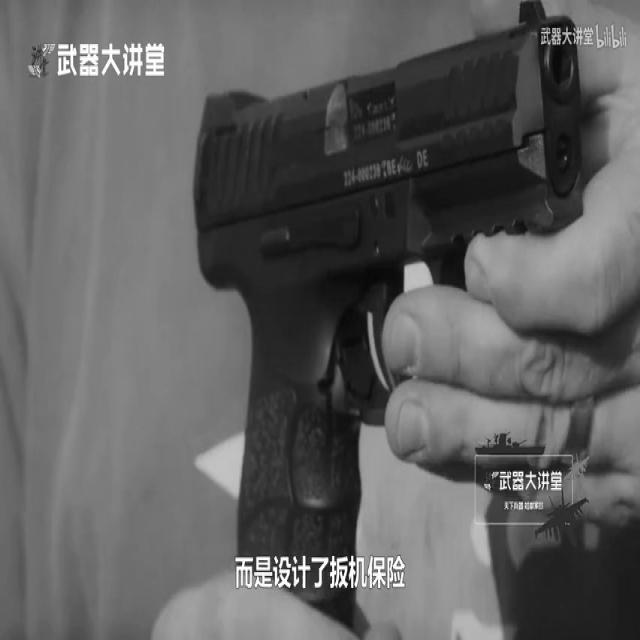Hand-Gun: (180, 11, 571, 588)
